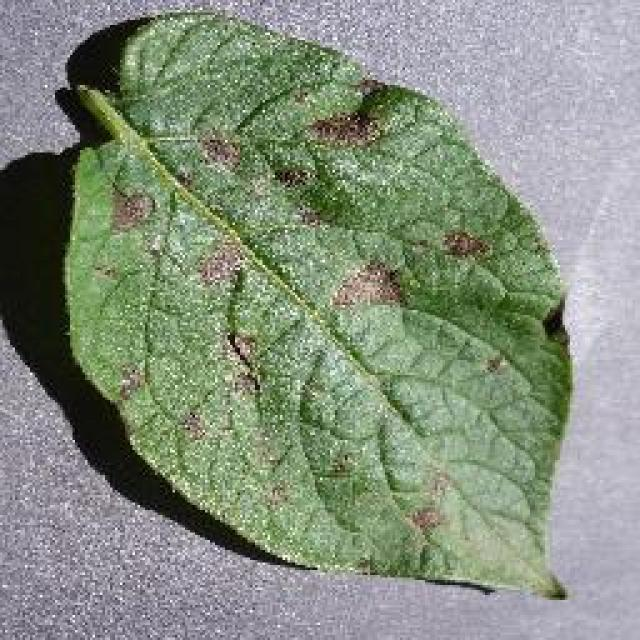Potato___Early_blight: (60, 12, 576, 602)
